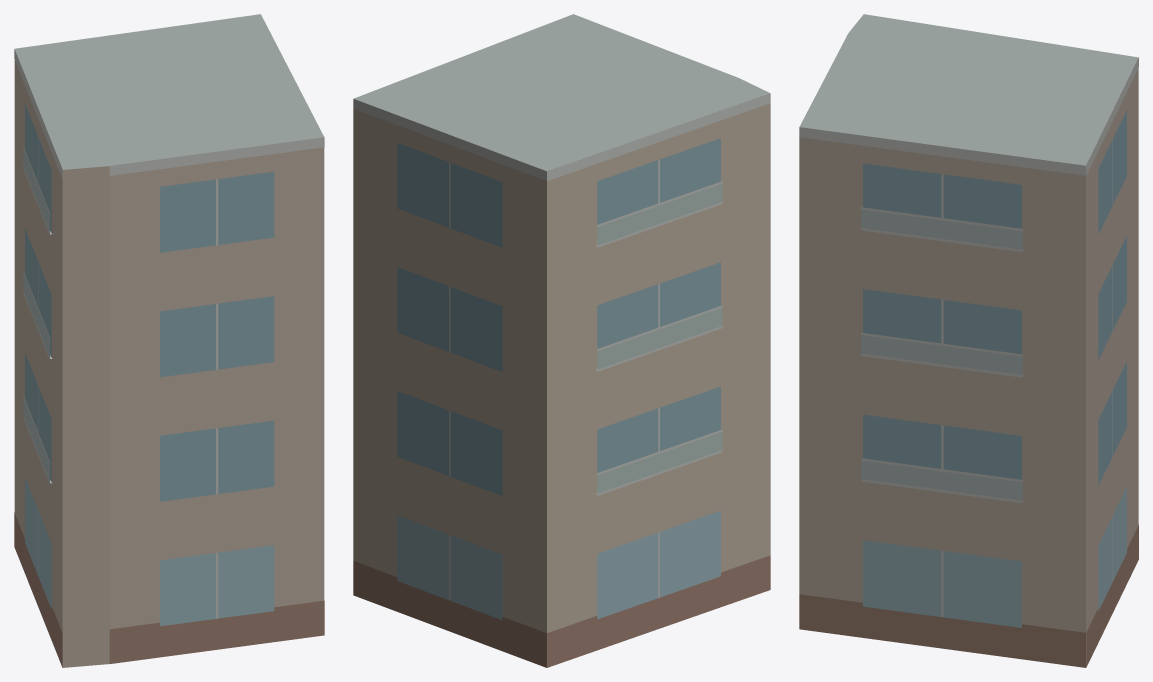
Rendered from survey-upis-32894784.glb.
The picture shows the model from 3 angles, left to right: view 1: azimuth 30°, elevation 25°; view 2: azimuth 150°, elevation 25°; view 3: azimuth 270°, elevation 25°; orthographic projection.
Visible parts, largest first — view 1: survey-upis-32894784.tmp; view 2: survey-upis-32894784.tmp; view 3: survey-upis-32894784.tmp.
Boxes of the visible parts, x1,y1,x2,y2 form: survey-upis-32894784.tmp: (14, 14, 324, 667); survey-upis-32894784.tmp: (353, 14, 770, 667); survey-upis-32894784.tmp: (799, 14, 1138, 667).
Size of the model in its own units: 7.91 by 12.2 by 7.48.
